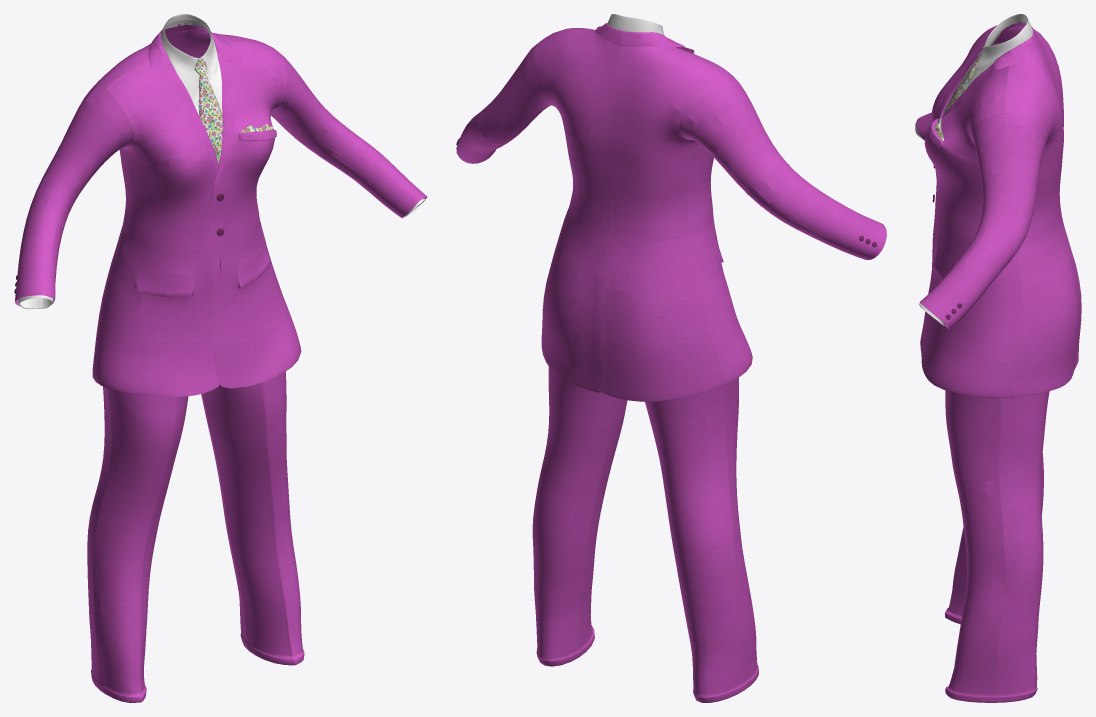
Rendered from toigo-female-suit-2.glb.
3 views of the same model, side by side, from view 1: azimuth 30°, elevation 25°; view 2: azimuth 150°, elevation 25°; view 3: azimuth 270°, elevation 25° (orthographic). The views are drawn at different scales.
Parts seen in each view (by area): view 1: female suit 2; view 2: female suit 2; view 3: female suit 2.
Part boxes in pixels (bbox=[...]): female suit 2: bbox=[14, 14, 427, 702]; female suit 2: bbox=[456, 14, 886, 702]; female suit 2: bbox=[915, 14, 1081, 702].
Size of the model in its own units: 91.76 by 137 by 32.39.
Materials: 1 (1 with a texture image).
